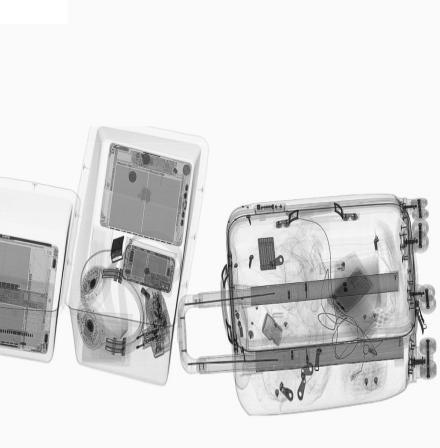Lighter: (318, 259, 345, 275)
